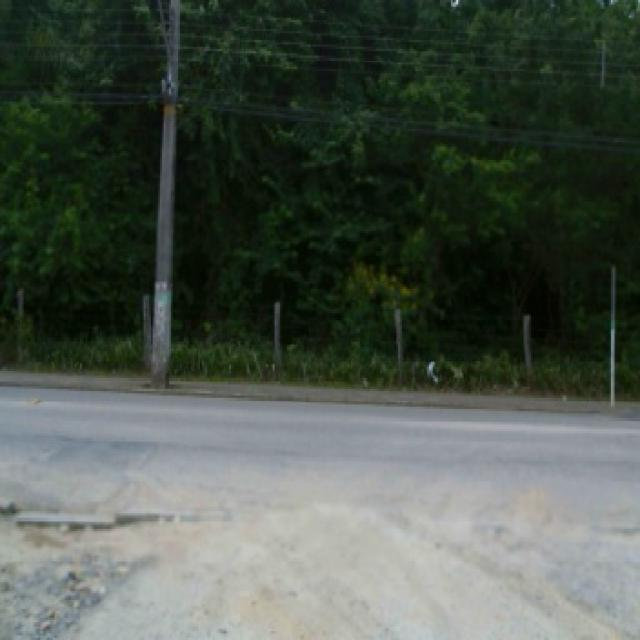Poth-hole: (3, 498, 162, 534), (33, 564, 106, 636), (31, 396, 42, 402)
